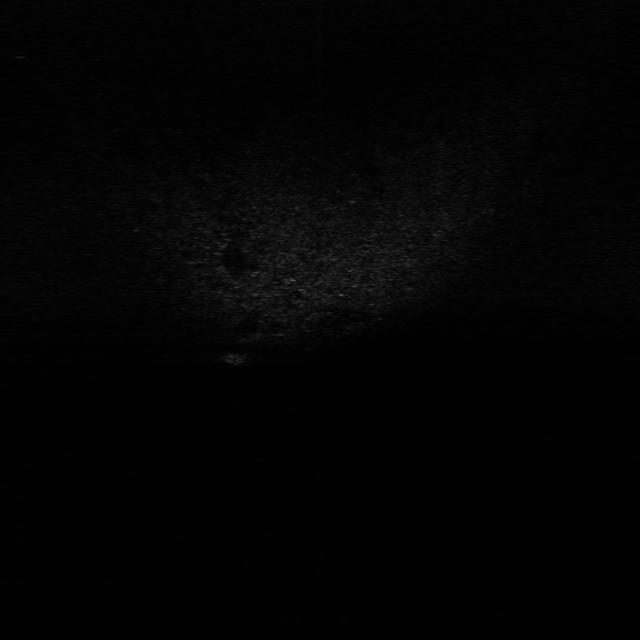cube: (222, 347, 256, 367)
